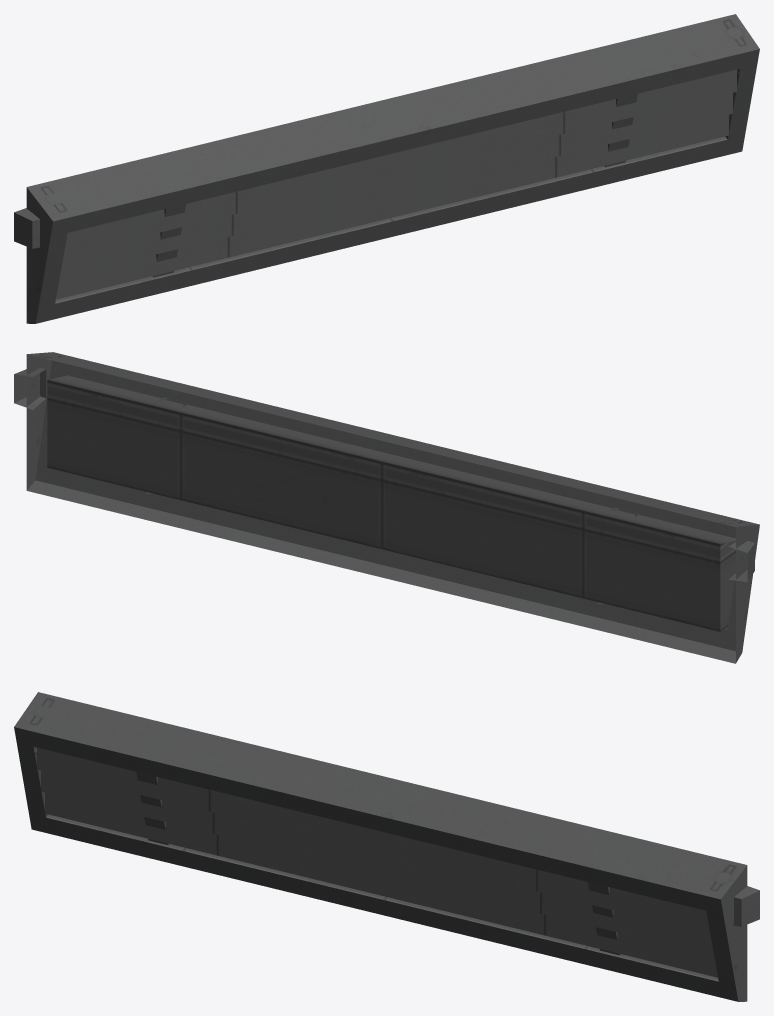
Rendered from Subway_Vents6_L1.fbx.
The picture shows the model from 3 angles, top to bottom: view 1: azimuth 30°, elevation 25°; view 2: azimuth 150°, elevation 25°; view 3: azimuth 330°, elevation 25°; orthographic projection.
Visible parts, largest first — view 1: polySurface1583; view 2: polySurface1583; view 3: polySurface1583.
Part boxes in pixels (bbox=[...]): polySurface1583: bbox=[14, 14, 759, 323]; polySurface1583: bbox=[14, 352, 759, 663]; polySurface1583: bbox=[14, 692, 759, 1001].
Size of the model in its own units: 103 by 18.29 by 6.29.
